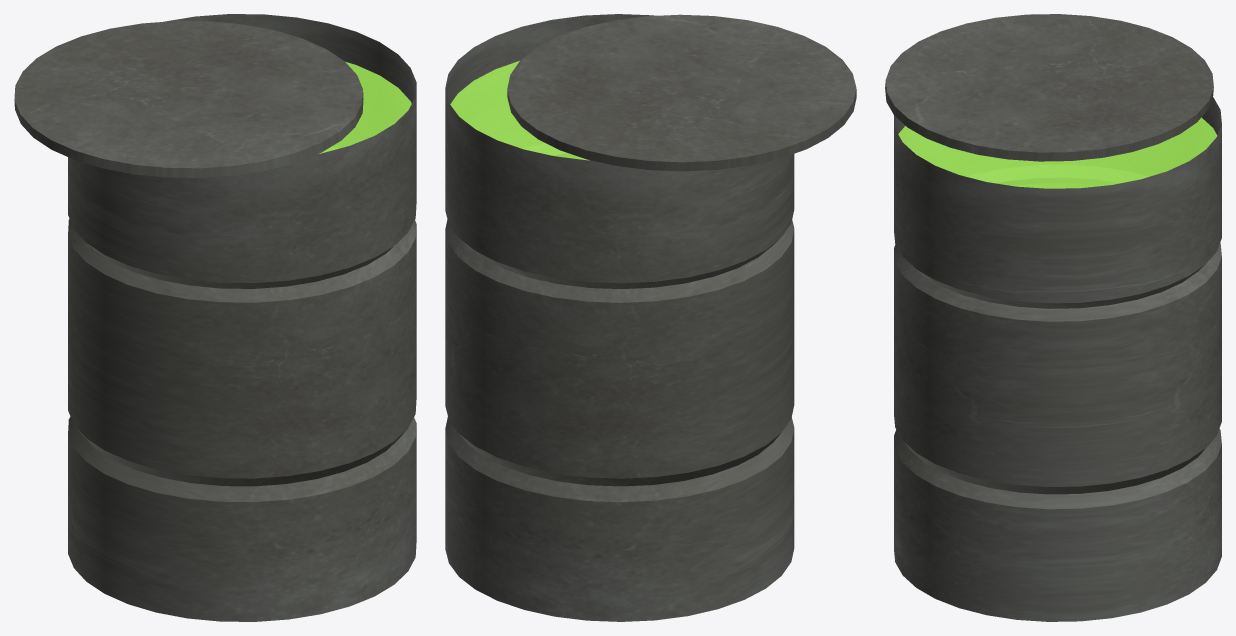
Rendered from Glow_Barrel_Table.glb.
3 renders of one model, left to right at view 1: azimuth 30°, elevation 25°; view 2: azimuth 150°, elevation 25°; view 3: azimuth 270°, elevation 25°, orthographic. The views are drawn at different scales.
Parts seen in each view (by area): view 1: tables.003; view 2: tables.003; view 3: tables.003.
Boxes of the visible parts, box(x1,y1,x2,y2) form: tables.003: box(14, 14, 416, 621); tables.003: box(445, 14, 856, 621); tables.003: box(885, 14, 1221, 621).
Size of what is drawn, in the model's own units: 1.01 by 1.27 by 0.8737.
2 materials, 1 textured.
